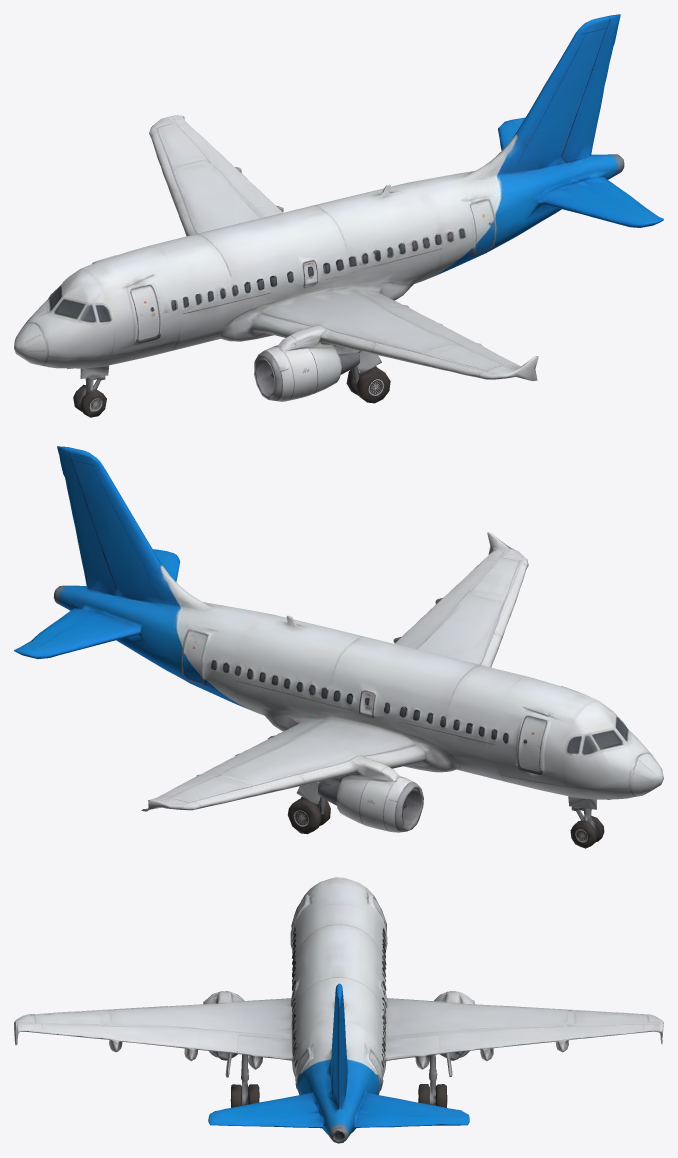
Rendered from plane_airliner.glb.
3 renders of one model, top to bottom at view 1: azimuth 30°, elevation 25°; view 2: azimuth 150°, elevation 25°; view 3: azimuth 270°, elevation 25°, orthographic. The views are drawn at different scales.
Visible parts, largest first — view 1: tripo_node_352d66b8-fc89-4ee5-b681-9a248bba7eec; view 2: tripo_node_352d66b8-fc89-4ee5-b681-9a248bba7eec; view 3: tripo_node_352d66b8-fc89-4ee5-b681-9a248bba7eec.
Boxes of the visible parts, x1,y1,x2,y2 form: tripo_node_352d66b8-fc89-4ee5-b681-9a248bba7eec: [14, 14, 663, 417]; tripo_node_352d66b8-fc89-4ee5-b681-9a248bba7eec: [14, 446, 663, 848]; tripo_node_352d66b8-fc89-4ee5-b681-9a248bba7eec: [14, 877, 663, 1143].
Size of the model in its own units: 1 by 0.4325 by 0.9996.
Materials: 1 (1 with a texture image).
